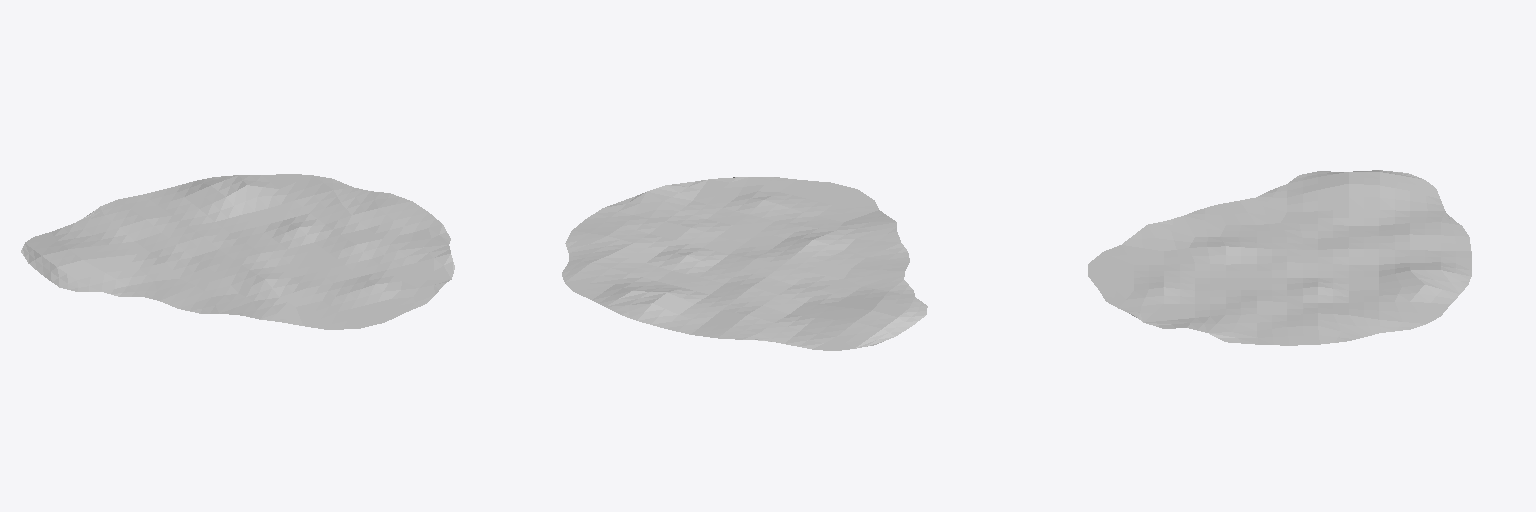
The model's file is ground.obj.
3 views of the same model, side by side, from view 1: azimuth 30°, elevation 25°; view 2: azimuth 150°, elevation 25°; view 3: azimuth 270°, elevation 25° (orthographic).
Visible parts, largest first — view 1: Object_4; view 2: Object_4; view 3: Object_4.
Boxes of the visible parts, box(x1,y1,x2,y2) form: Object_4: box(21, 174, 454, 329); Object_4: box(562, 177, 927, 350); Object_4: box(1088, 170, 1471, 345).
Bounding box in the file's own units: 283 × 7.08 × 264.